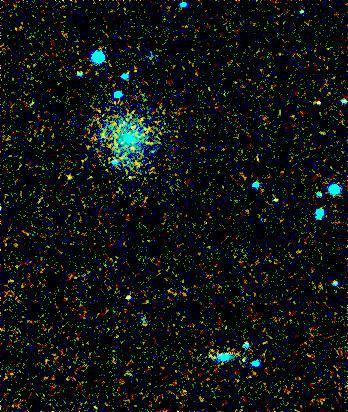star: (54, 158, 84, 188)
